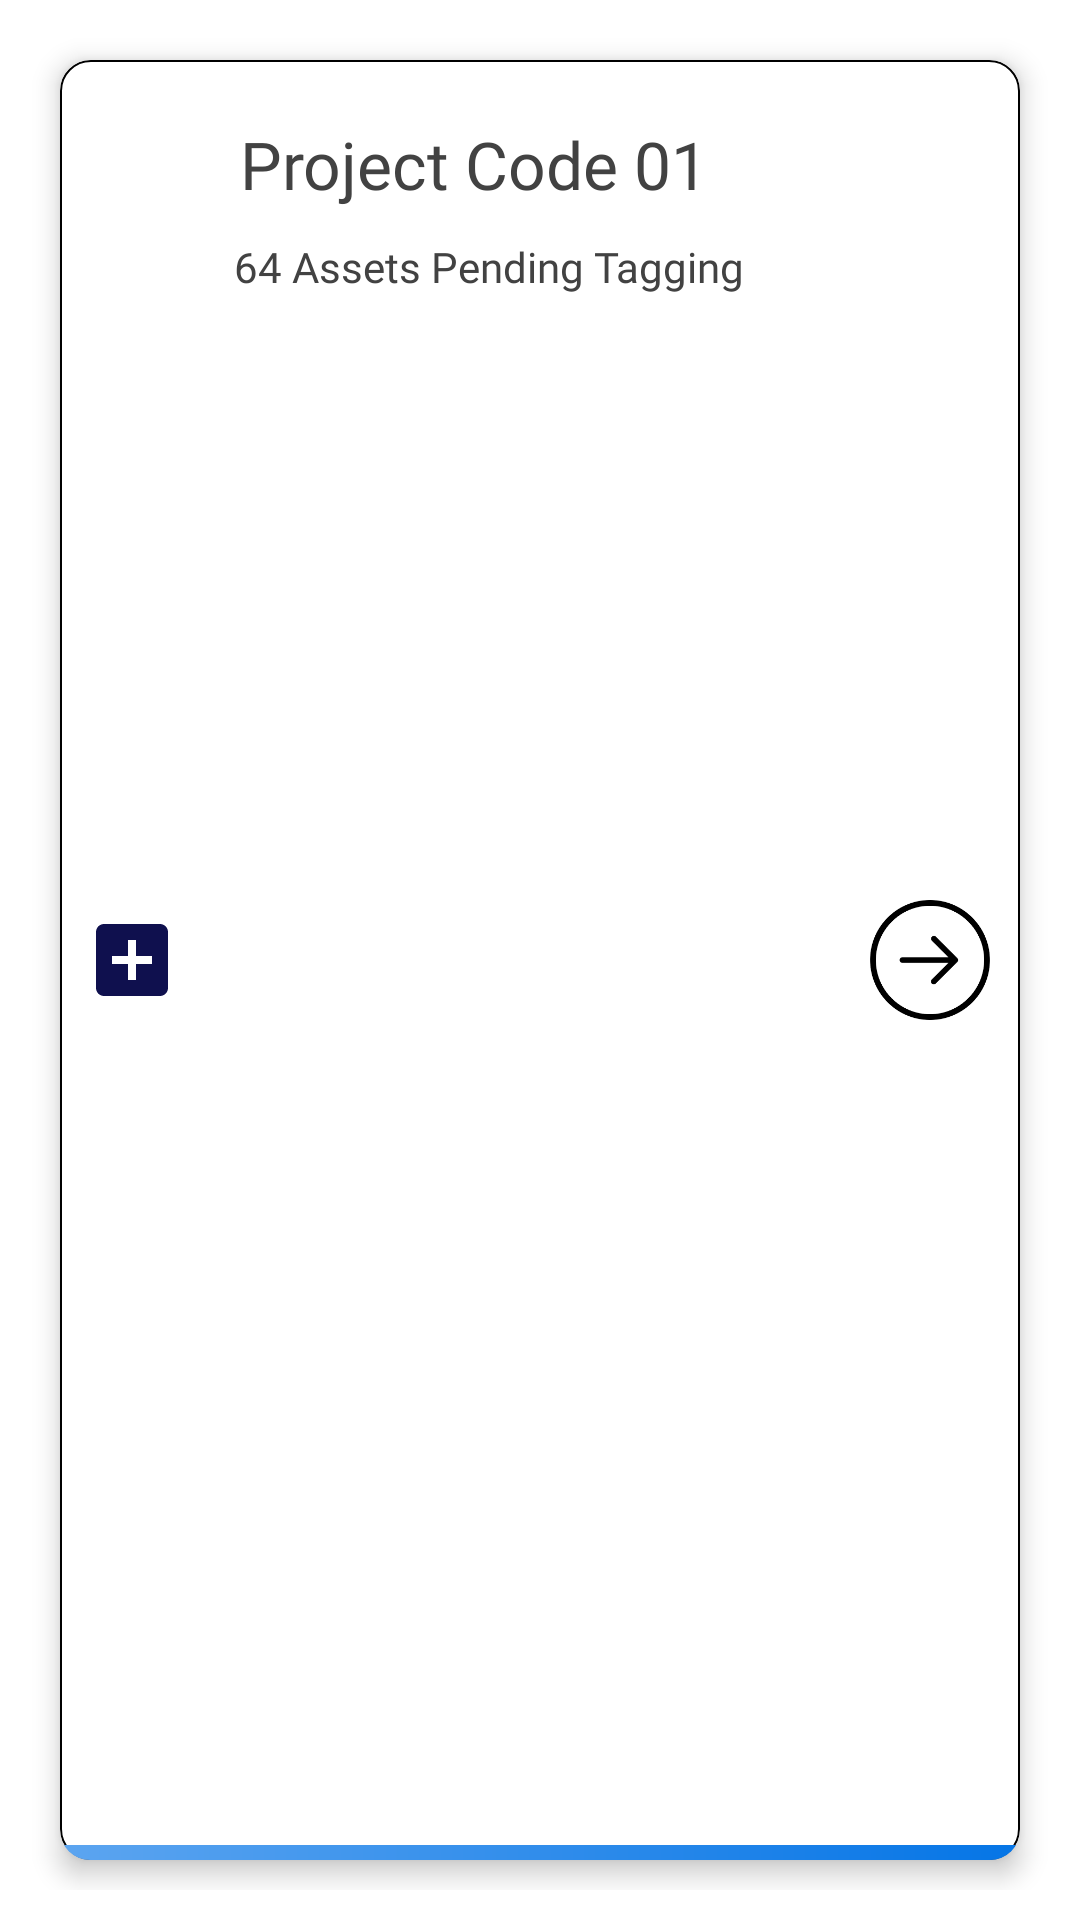

Locate icon controls on the screen. Image size 1080w x 1920h, boxes as (x1, y1, x2, y2).
add box: (96, 924, 168, 996)
arrowinsidecircle: (870, 900, 990, 1020)
